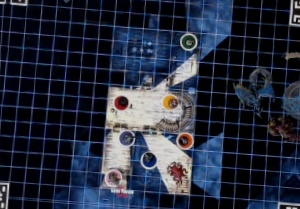blue: (137, 148, 160, 169)
green: (178, 31, 197, 51)
orange: (173, 129, 194, 150)
pink: (102, 166, 122, 190)
red: (110, 91, 130, 112)
violet: (118, 126, 136, 146)
yellow: (161, 91, 178, 110)
